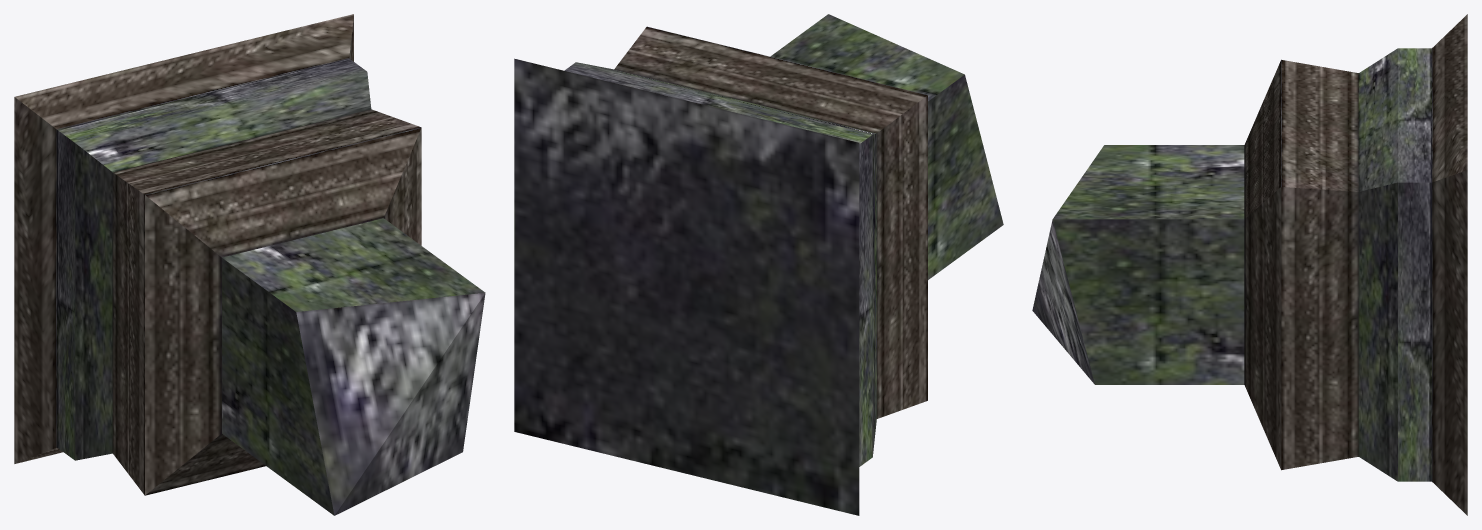
3 views of the same model, side by side, from view 1: azimuth 30°, elevation 25°; view 2: azimuth 150°, elevation 25°; view 3: azimuth 270°, elevation 25° (orthographic). The views are drawn at different scales.
Visible parts, largest first — view 1: model_Object25; view 2: model_Object25; view 3: model_Object25.
Part boxes in pixels (x1,y1,x2,y2): model_Object25: (14,14,485,515); model_Object25: (514,14,1003,515); model_Object25: (1032,14,1467,515).
Size of the model in its own units: 1.5 by 1.55 by 1.77.
1 material, 1 textured.
